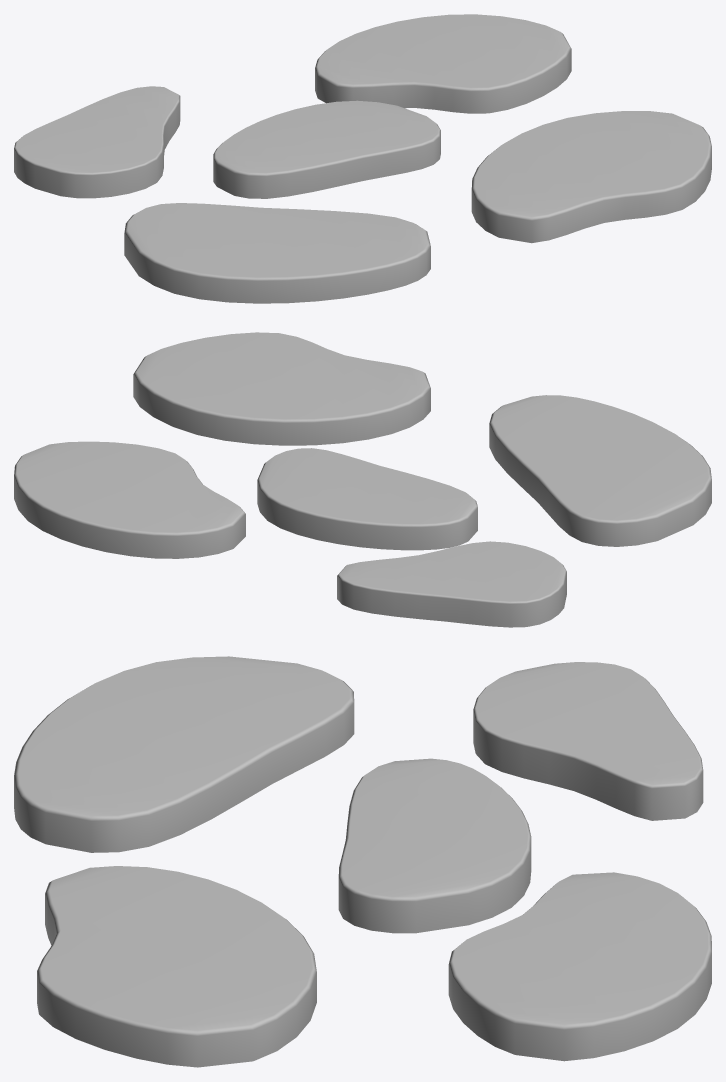
File: Town_20_Path_1.glb
3 renders of one model, top to bottom at view 1: azimuth 30°, elevation 25°; view 2: azimuth 150°, elevation 25°; view 3: azimuth 270°, elevation 25°, orthographic. The views are drawn at different scales.
Visible parts, largest first — view 1: Town_20_Path_1; view 2: Town_20_Path_1; view 3: Town_20_Path_1.
Boxes of the visible parts, x1,y1,x2,y2 form: Town_20_Path_1: [14, 14, 711, 303]; Town_20_Path_1: [14, 332, 711, 627]; Town_20_Path_1: [14, 656, 711, 1067].
Size of the model in its own units: 1.86 by 0.0802 by 1.45.
Materials: 1 (1 with a texture image).
